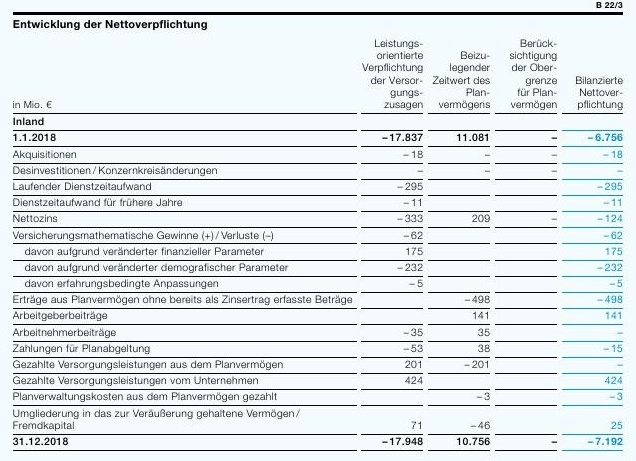table: (0, 0, 636, 461)
